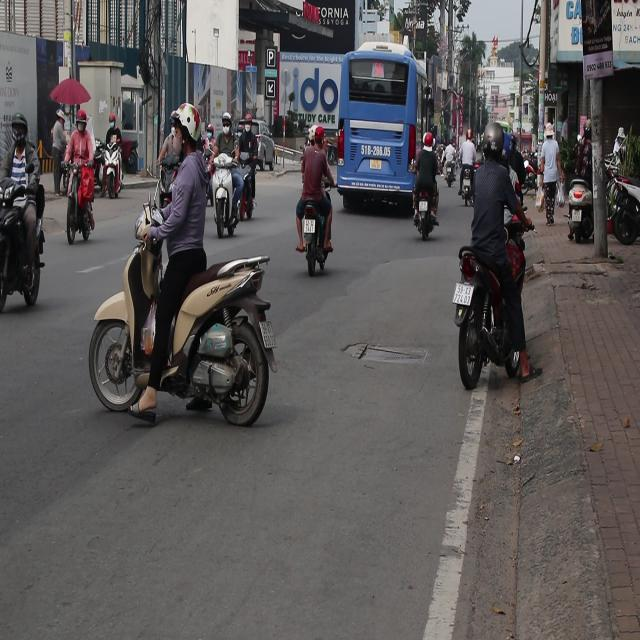bus: (337, 44, 426, 216)
car: (253, 122, 274, 173)
motorbike: (86, 245, 286, 453), (459, 241, 572, 405), (0, 177, 45, 312), (210, 154, 248, 239), (56, 165, 97, 239), (292, 190, 328, 270), (234, 151, 260, 221), (102, 136, 124, 200), (411, 188, 437, 233), (438, 153, 459, 190), (522, 164, 539, 195), (461, 173, 474, 210)
